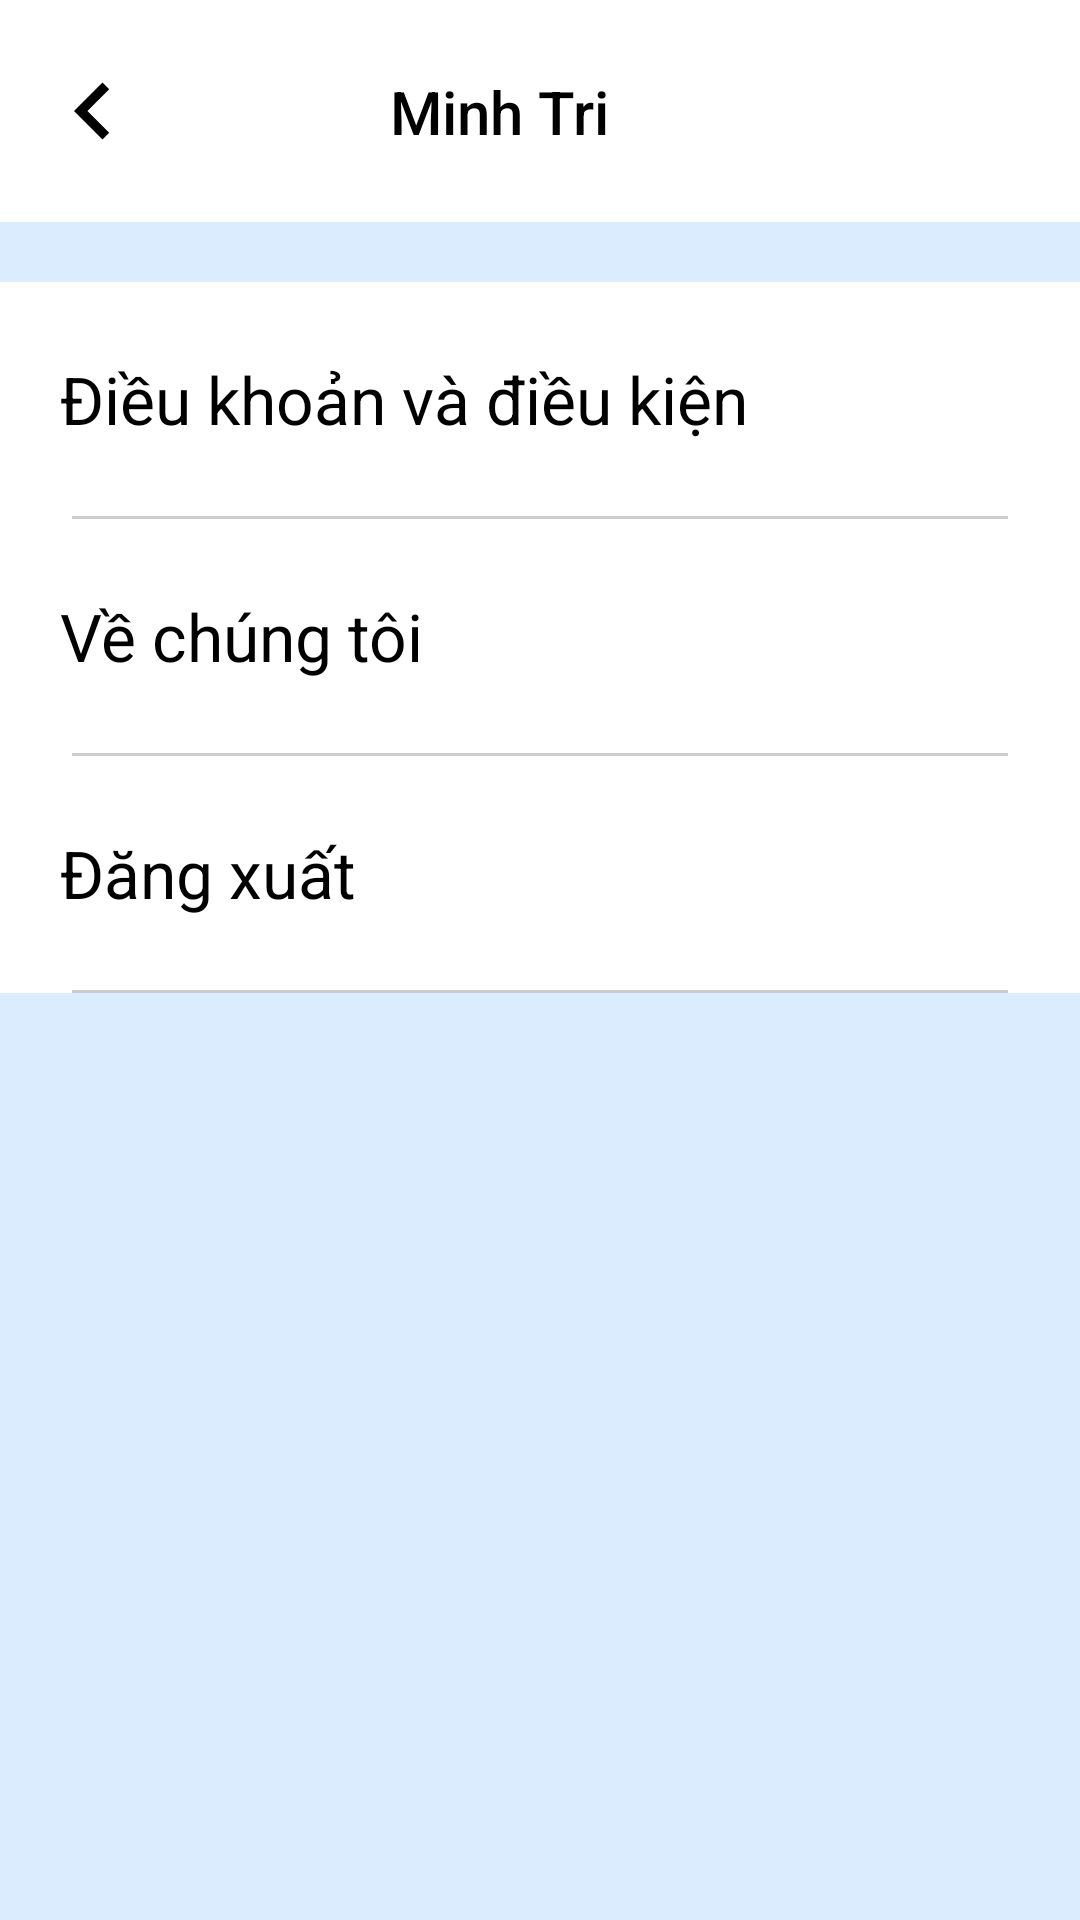

Where icons sit on this 1080px x 1920px app screen, as (x1, y1, x2, y2):
back: (74, 82, 109, 140)
